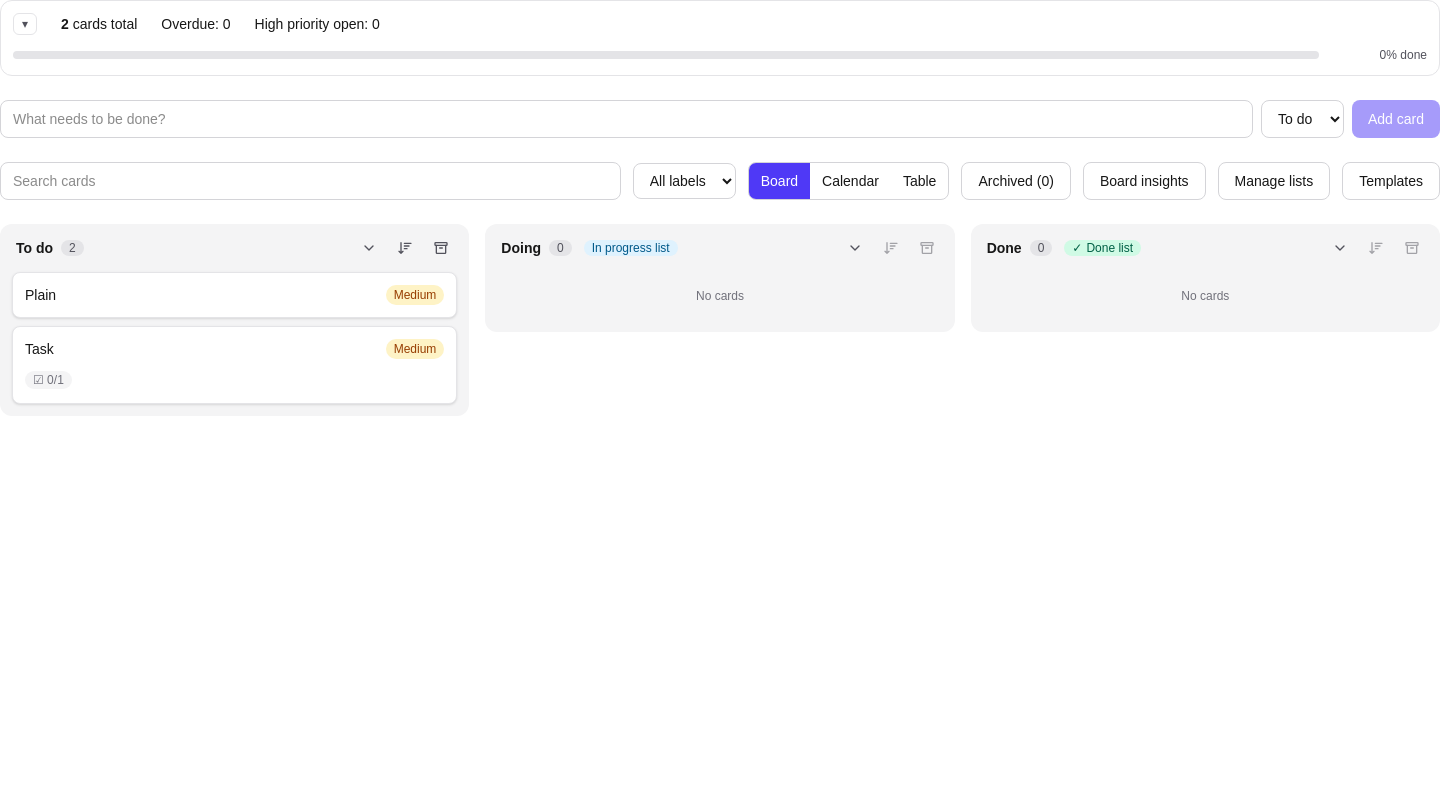
<Board /> checklist › Delete completed removes the whole list when every item is ticked, and is disabled with no checklist
Click the button "Task" at (39, 349), box left=25, top=339, right=54, bottom=359
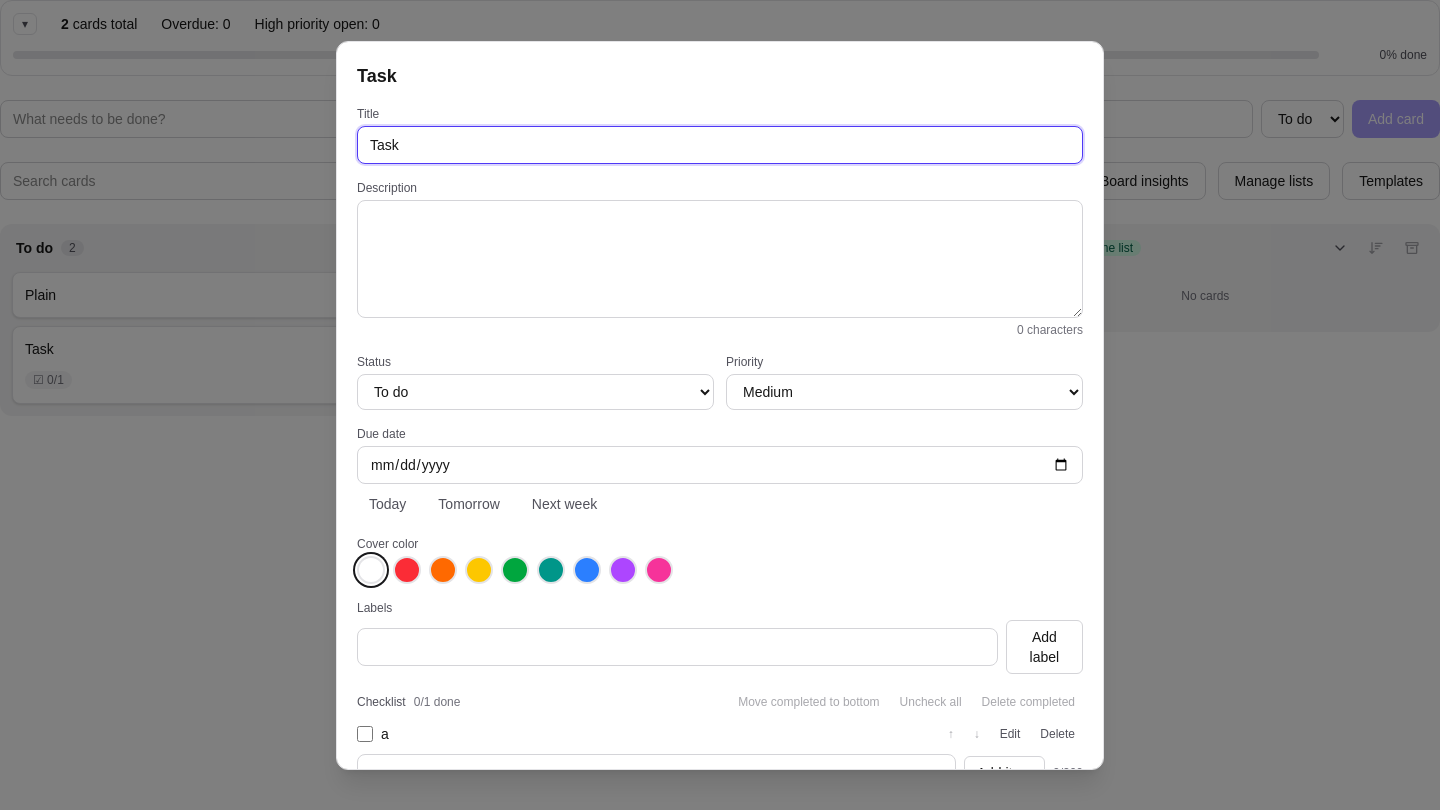
Click the checkbox labelled "a" at (365, 734), box left=357, top=726, right=373, bottom=742
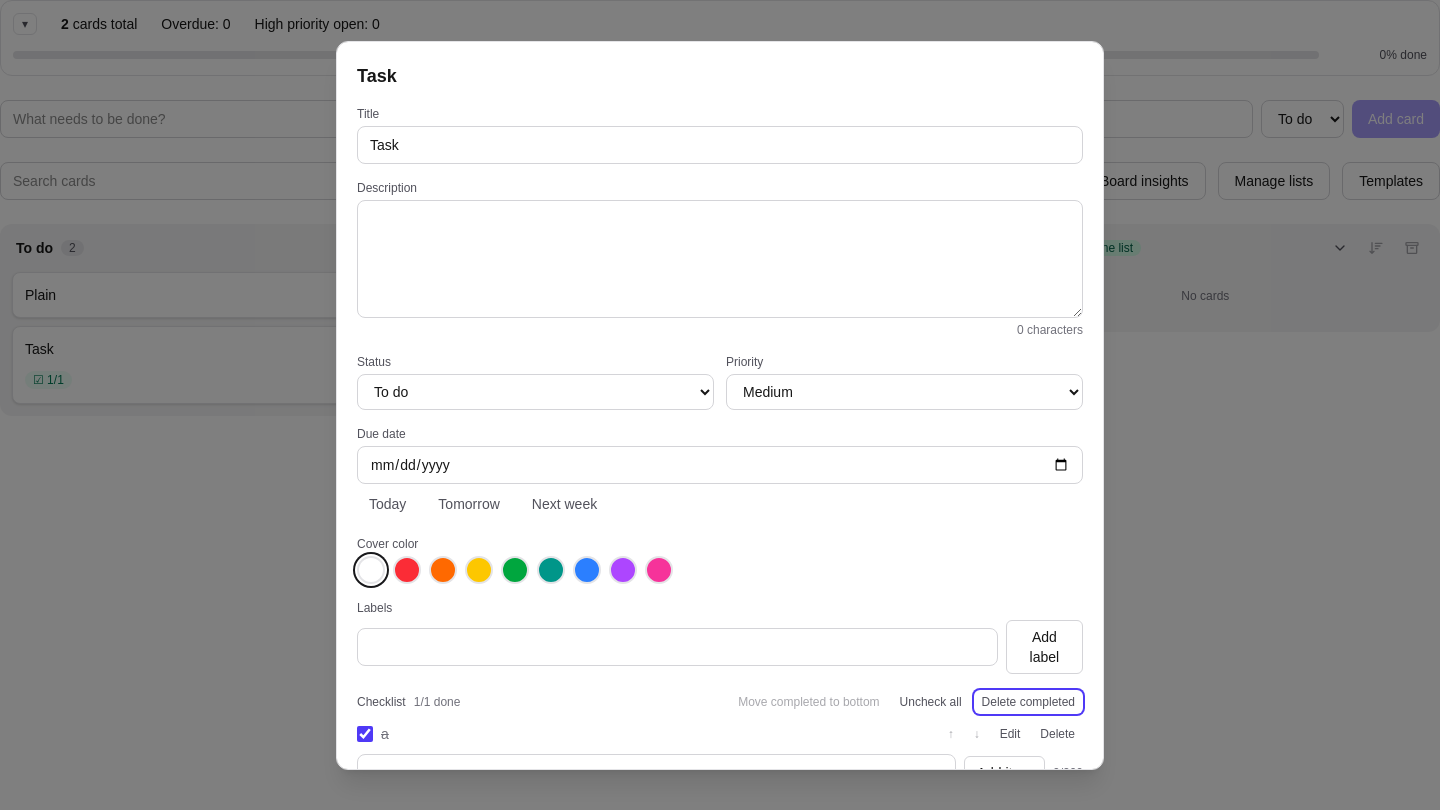
Press Enter
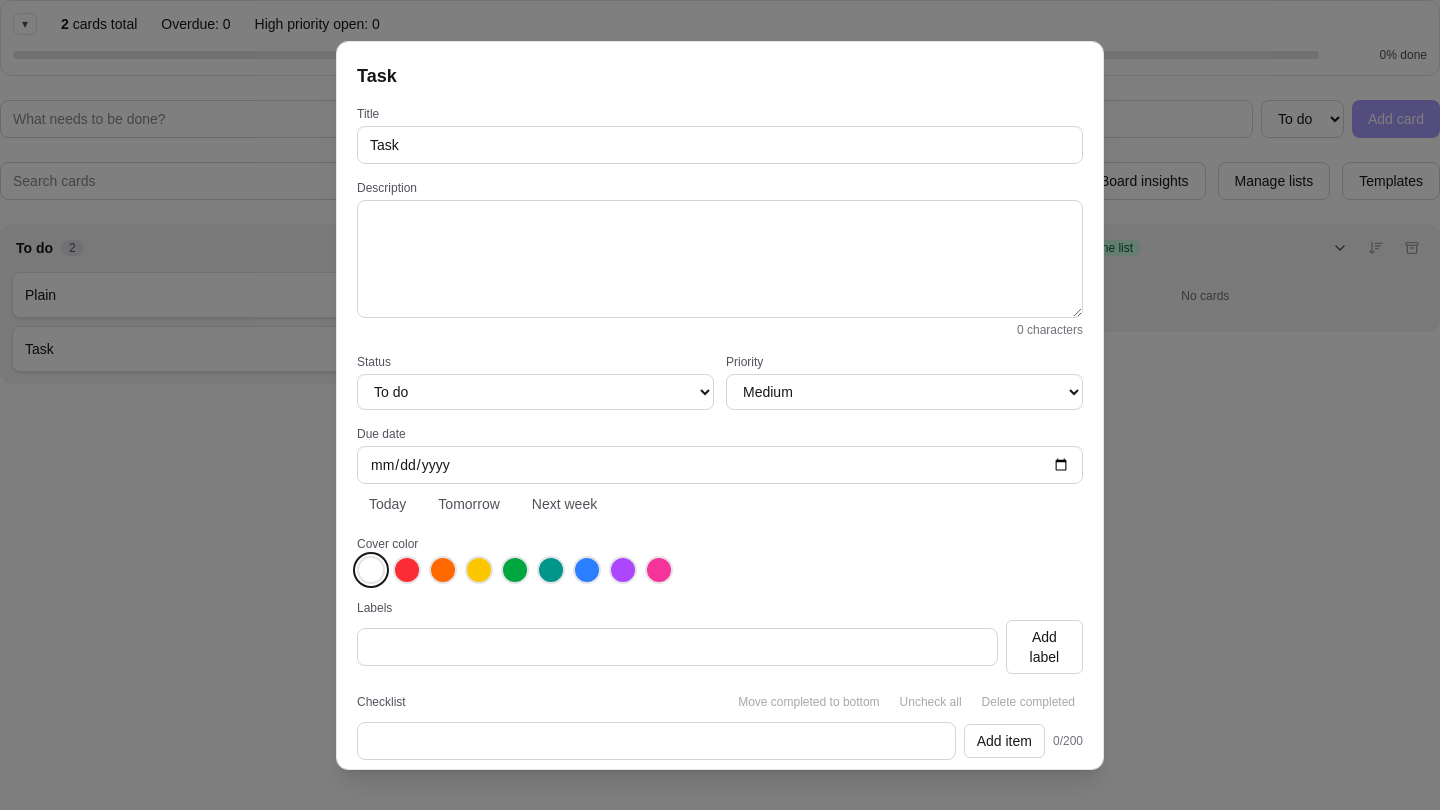
Now no checkboxes are shown
Now the button "Delete completed" is disabled, box left=974, top=690, right=1083, bottom=714
